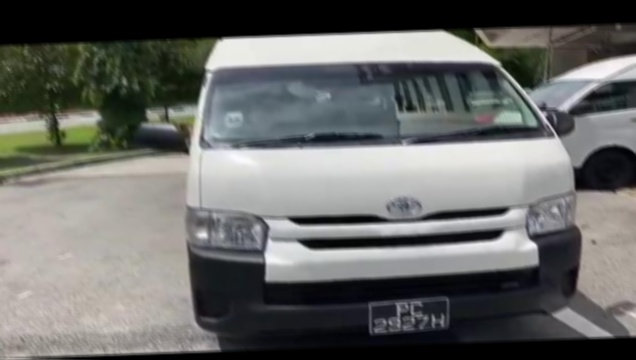van: (147, 26, 608, 354)
